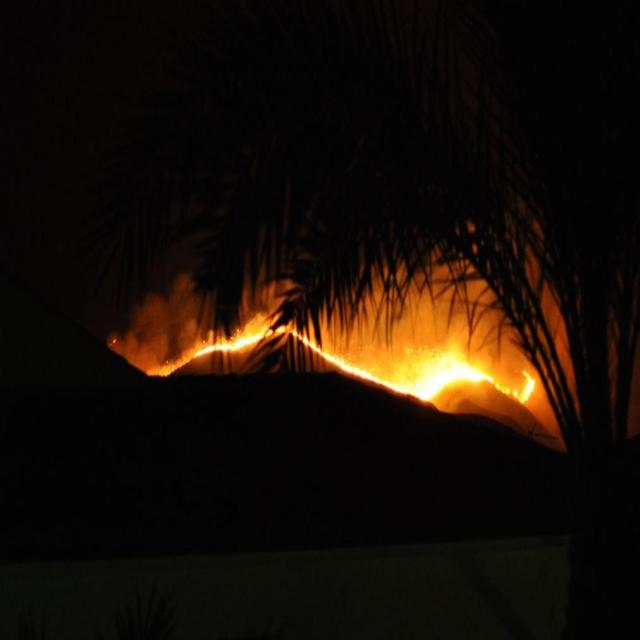Fire: (131, 310, 544, 406)
